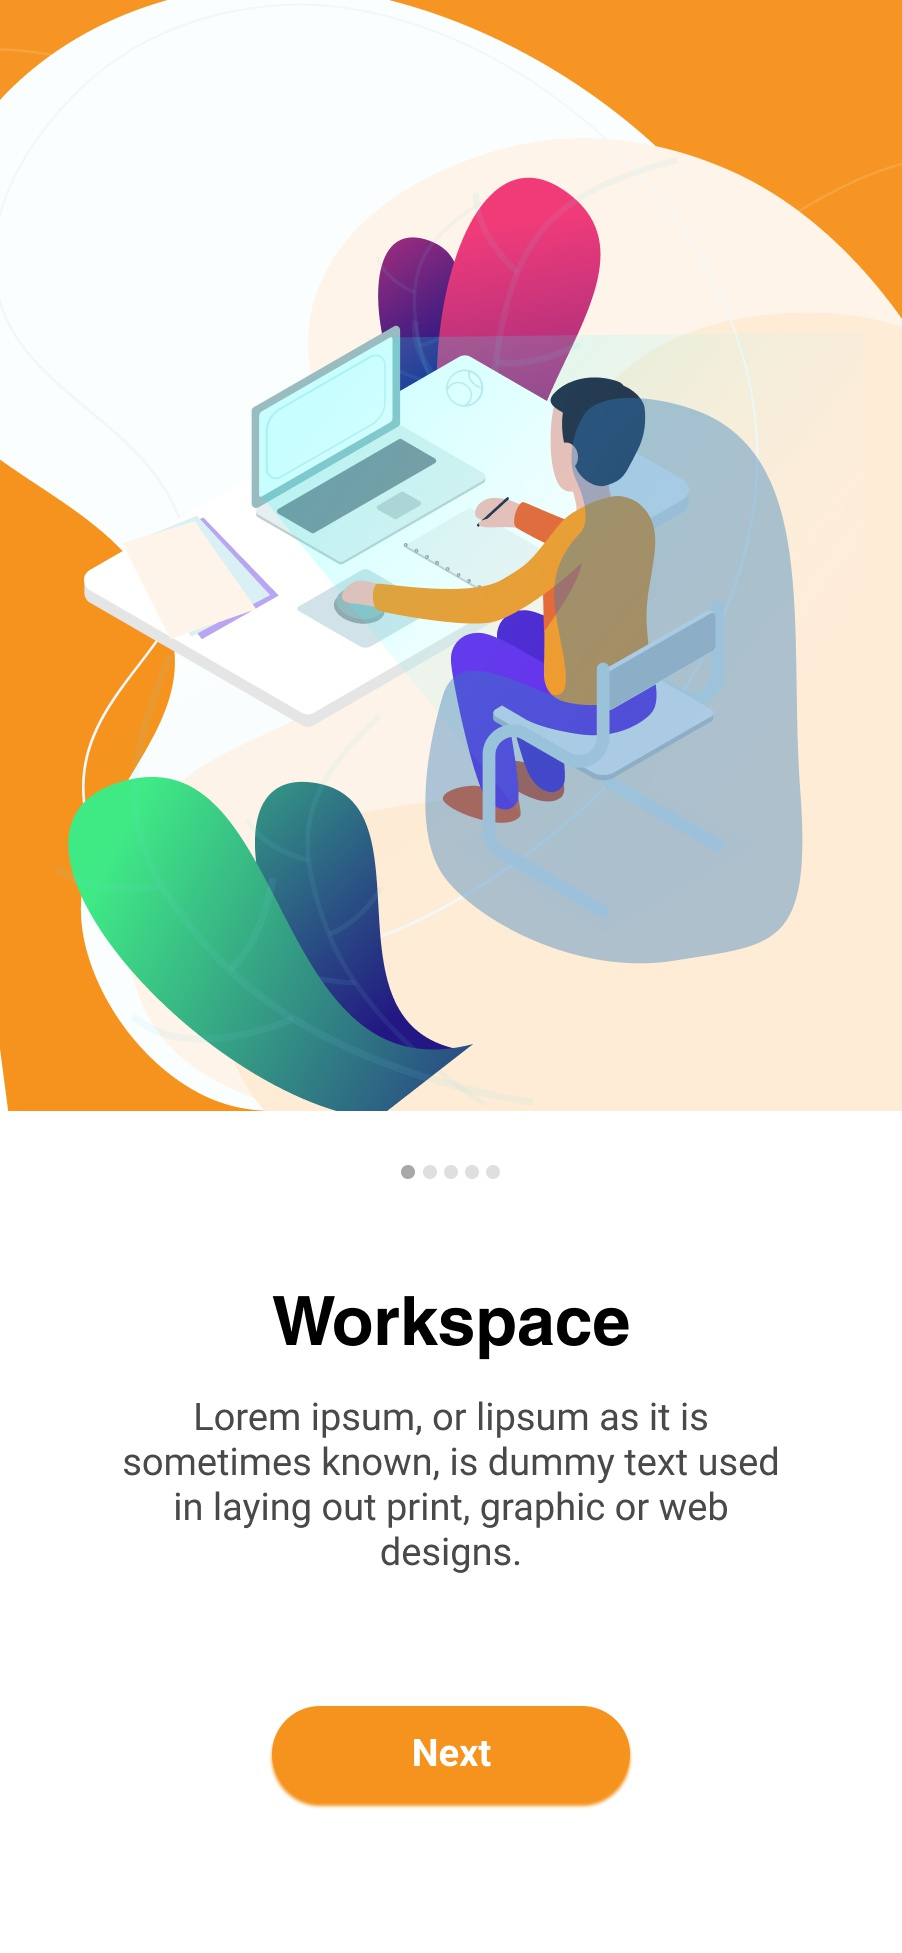Image: (1, 1, 897, 1112)
PageIndicator: (401, 1165, 501, 1180)
Text: (125, 1401, 777, 1574), (273, 1295, 630, 1360)
TextButton: (272, 1705, 630, 1807)
